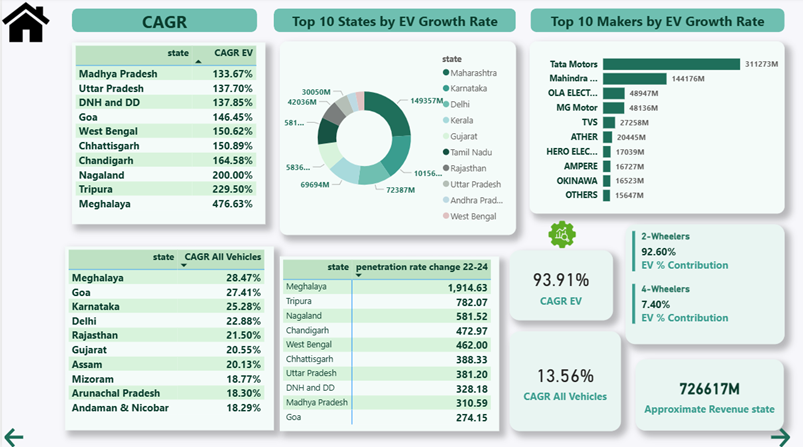

The page's visual inventory and layout, read from the dashboard file:
{"tool":"powerbi","page":{"name":"Growth Trends & Projections","canvas":[1280,720],"ordinal":4},"visuals":[{"type":"barChart","fields":{"Y":["electric_vehicle_sales_by_state.Approximate Revenue maker"],"Category":["electric_vehicle_sales_by_makers.maker"]},"box":[839.1,69.9,406.3,274],"z":0},{"type":"donutChart","fields":{"Category":["electric_vehicle_sales_by_state.state"],"Y":["electric_vehicle_sales_by_state.Approximate Revenue state"]},"box":[442.2,69.9,376.1,308],"z":1000},{"type":"shape","box":[841,17,404.4,37.8],"z":2000},{"type":"shape","box":[432.8,17,385.5,37.8],"z":3000},{"type":"tableEx","fields":{"Values":["electric_vehicle_sales_by_state.state","electric_vehicle_sales_by_state.CAGR EV"]},"box":[111.5,71.8,308,289.1],"z":4000},{"type":"shape","box":[111.5,17,294.8,37.8],"z":5000},{"type":"tableEx","fields":{"Values":["electric_vehicle_sales_by_state.state","electric_vehicle_sales_by_state.CAGR All Vehicles"]},"box":[100.2,396.9,332.6,292.9],"z":6000},{"type":"pivotTable","fields":{"Rows":["electric_vehicle_sales_by_state.state"],"Values":["electric_vehicle_sales_by_state.penetration rate change 22-24"]},"box":[442.2,412,349.6,277.8],"z":7000},{"type":"card","fields":{"Values":["electric_vehicle_sales_by_state.CAGR EV"]},"box":[808.8,402.5,164.4,111.5],"z":8000},{"type":"card","fields":{"Values":["electric_vehicle_sales_by_state.CAGR All Vehicles"]},"box":[808.8,531,177.6,158.7],"z":9000},{"type":"card","fields":{"Values":["electric_vehicle_sales_by_state.Approximate Revenue state"]},"box":[1009.1,576.4,236.2,113.4],"z":10000},{"type":"multiRowCard","fields":{"Values":["dim_vehicle_category.vehicle category","electric_vehicle_sales_by_makers.EV % Contribution"]},"box":[992.1,360.9,253.2,190.9],"z":11000},{"type":"actionButton","box":[0,680.3,100.2,39.7],"z":12000},{"type":"actionButton","box":[1218.9,680.3,60.5,39.7],"z":13000},{"type":"image","box":[0,0,76,78],"z":14000},{"type":"image","box":[869.3,351.5,43.5,51],"z":15000}]}

Visuals, with their boxes in screenshot pixels (x1, y1, x2, y2), scaled from the page's 1280x720 canvas onto the 803x447 screenshot:
barChart - electric_vehicle_sales_by_state.Approximate Revenue maker x electric_vehicle_sales_by_makers.maker: <region>526, 43, 781, 214</region>
donutChart - electric_vehicle_sales_by_state.state x electric_vehicle_sales_by_state.Approximate Revenue state: <region>277, 43, 513, 235</region>
shape: <region>528, 11, 781, 34</region>
shape: <region>272, 11, 513, 34</region>
tableEx - electric_vehicle_sales_by_state.state x electric_vehicle_sales_by_state.CAGR EV: <region>70, 45, 263, 224</region>
shape: <region>70, 11, 255, 34</region>
tableEx - electric_vehicle_sales_by_state.state x electric_vehicle_sales_by_state.CAGR All Vehicles: <region>63, 246, 272, 428</region>
pivotTable - electric_vehicle_sales_by_state.state x electric_vehicle_sales_by_state.penetration rate change 22-24: <region>277, 256, 497, 428</region>
card - electric_vehicle_sales_by_state.CAGR EV: <region>507, 250, 611, 319</region>
card - electric_vehicle_sales_by_state.CAGR All Vehicles: <region>507, 330, 619, 428</region>
card - electric_vehicle_sales_by_state.Approximate Revenue state: <region>633, 358, 781, 428</region>
multiRowCard - dim_vehicle_category.vehicle category x electric_vehicle_sales_by_makers.EV % Contribution: <region>622, 224, 781, 343</region>
actionButton: <region>0, 422, 63, 446</region>
actionButton: <region>765, 422, 802, 446</region>
image: <region>0, 0, 48, 48</region>
image: <region>545, 218, 573, 250</region>
